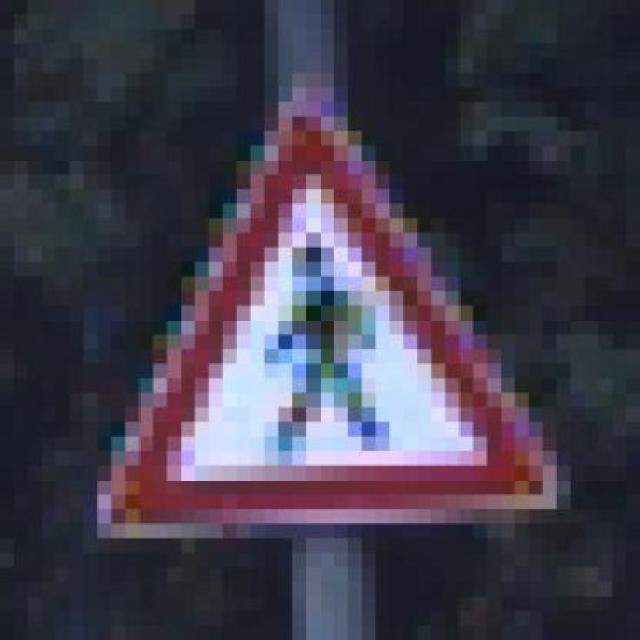Pedestrian Crossing: (78, 76, 565, 556)
